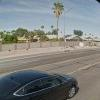Car: (4, 60, 83, 100)
